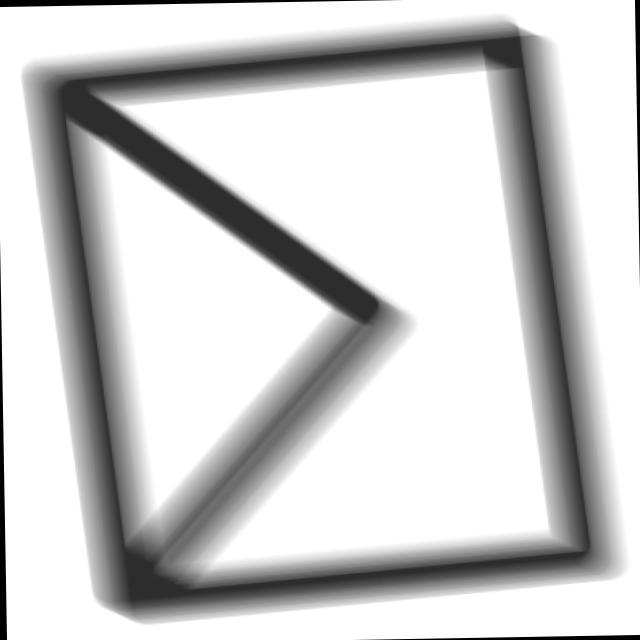letter: (17, 11, 634, 630)
